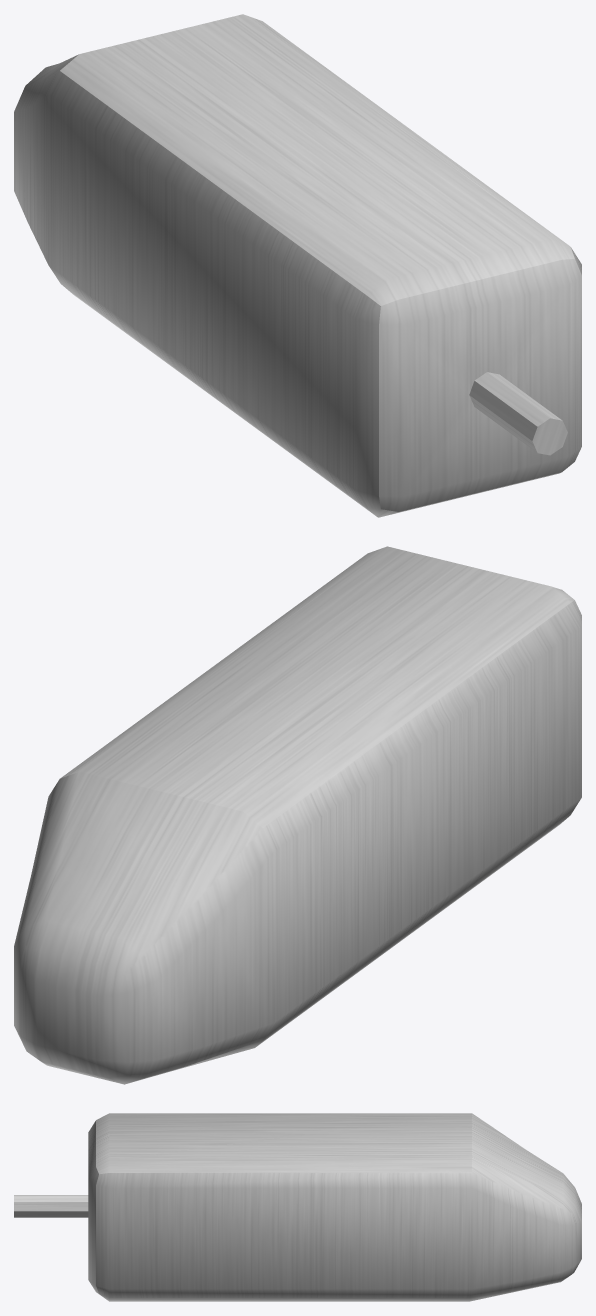
Rendered from PaloMolino3.fbx.
The picture shows the model from 3 angles, top to bottom: view 1: azimuth 30°, elevation 25°; view 2: azimuth 150°, elevation 25°; view 3: azimuth 270°, elevation 25°; orthographic projection. The views are drawn at different scales.
Parts seen in each view (by area): view 1: Box001; view 2: Box001; view 3: Box001.
Boxes of the visible parts, x1,y1,x2,y2 form: Box001: (14,14,581,517); Box001: (14,546,581,1084); Box001: (14,1113,581,1301).
Bounding box in the file's own units: 30 × 30.01 × 111.
